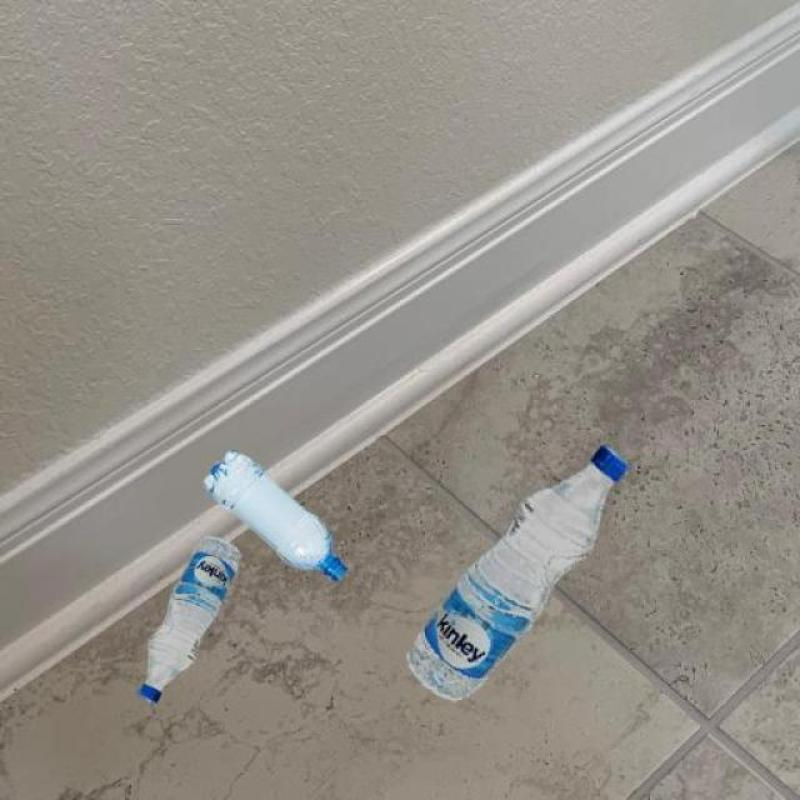botella: (404, 446, 628, 702), (200, 449, 350, 586), (136, 536, 242, 703)
